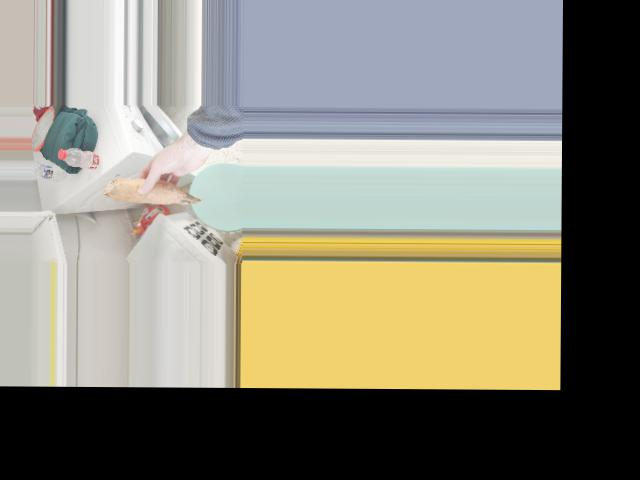sweet_potato: (99, 172, 199, 211)
